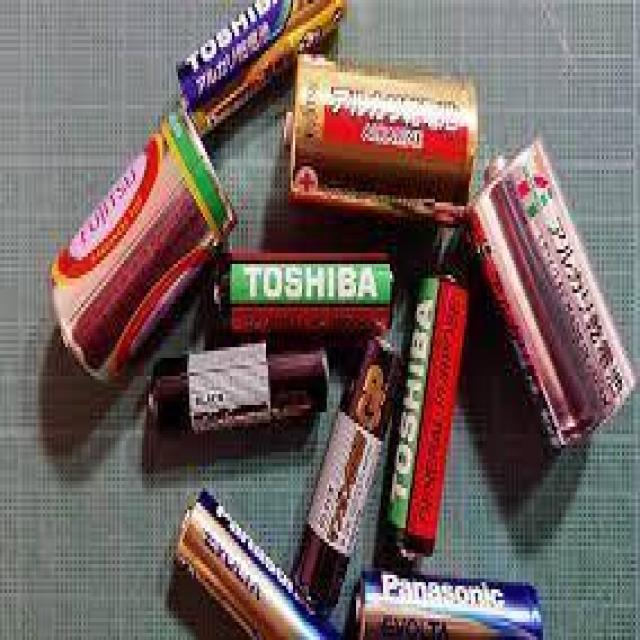AA: (291, 333, 408, 619), (383, 268, 472, 563), (174, 486, 347, 636), (144, 346, 332, 441), (209, 249, 394, 340)
